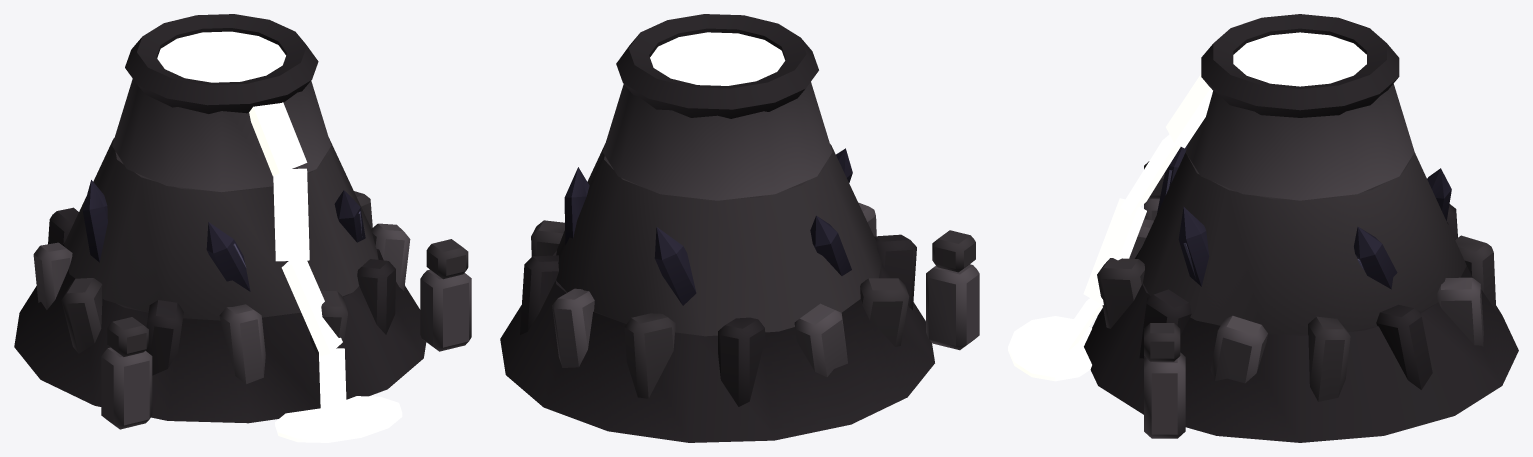
The model's file is lm_vulkan.glb.
3 renders of one model, left to right at view 1: azimuth 30°, elevation 25°; view 2: azimuth 150°, elevation 25°; view 3: azimuth 270°, elevation 25°, orthographic. The views are drawn at different scales.
Parts seen in each view (by area): view 1: body, lava_glow, pulse_core_glow; view 2: body, lava_glow, pulse_core_glow; view 3: body, lava_glow, pulse_core_glow.
Boxes of the visible parts, x1,y1,x2,y2 form: body: (14, 14, 471, 429); lava_glow: (157, 31, 402, 442); pulse_core_glow: (192, 33, 250, 69); body: (500, 14, 979, 442); lava_glow: (650, 32, 785, 85); pulse_core_glow: (687, 34, 748, 72); body: (1084, 14, 1518, 442); lava_glow: (1008, 32, 1366, 381); pulse_core_glow: (1269, 35, 1331, 71).
Size of the model in its own units: 8.4 by 6.76 by 9.81.
